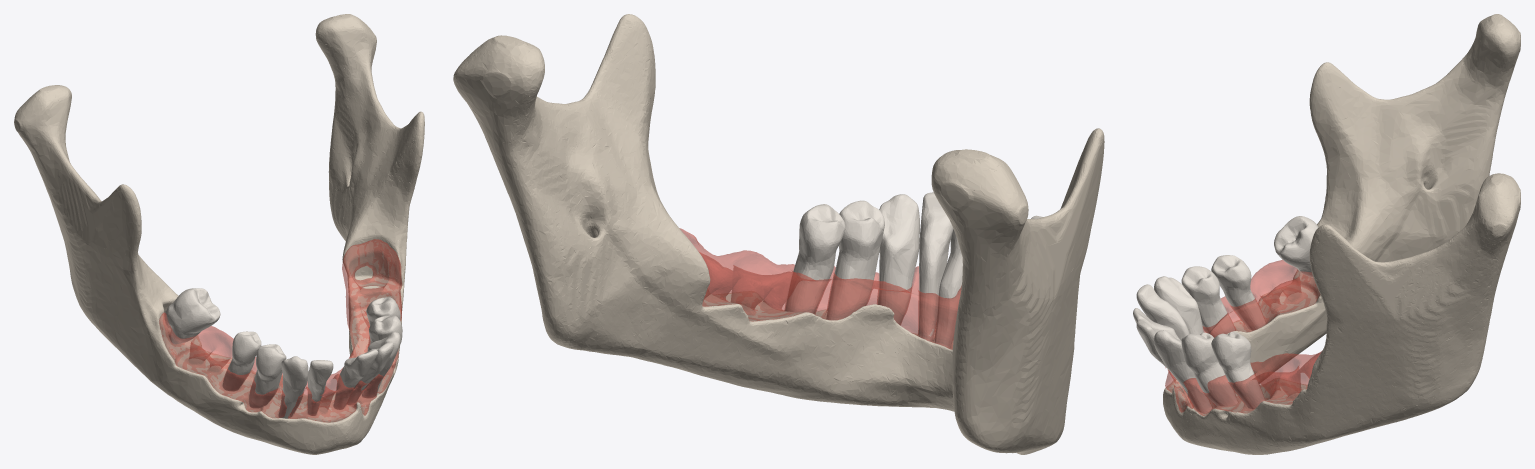
The model's file is stage-4.glb.
3 renders of one model, left to right at view 1: azimuth 30°, elevation 25°; view 2: azimuth 150°, elevation 25°; view 3: azimuth 270°, elevation 25°, orthographic. The views are drawn at different scales.
Visible parts, largest first — view 1: bone, lost, teeth; view 2: bone, teeth, lost; view 3: bone, teeth, lost.
Boxes of the visible parts, box(x1,y1,x2,y2) form: bone: box(14, 14, 424, 454); lost: box(159, 239, 402, 422); teeth: box(164, 288, 402, 418); bone: box(453, 14, 1104, 454); teeth: box(785, 192, 1042, 348); lost: box(679, 228, 961, 349); bone: box(1163, 14, 1520, 454); teeth: box(1133, 216, 1318, 412); lost: box(1165, 260, 1321, 415).
Bounding box in the file's own units: 0.1032 × 0.082 × 0.0867.
